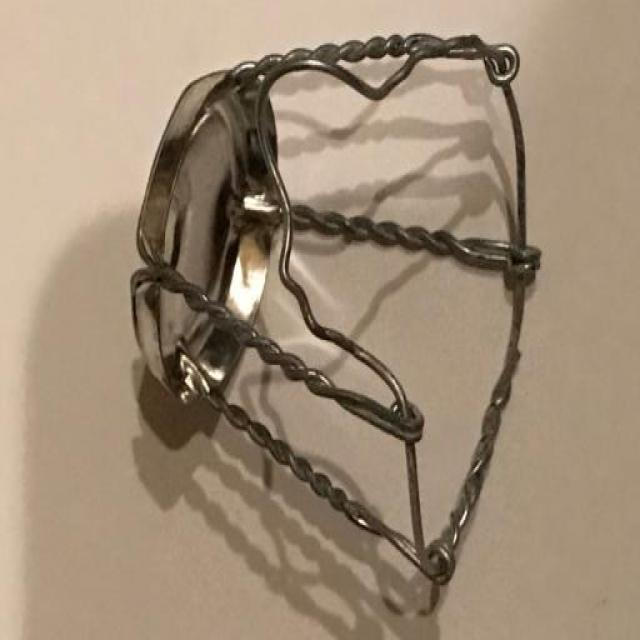metel: (127, 33, 550, 611)
